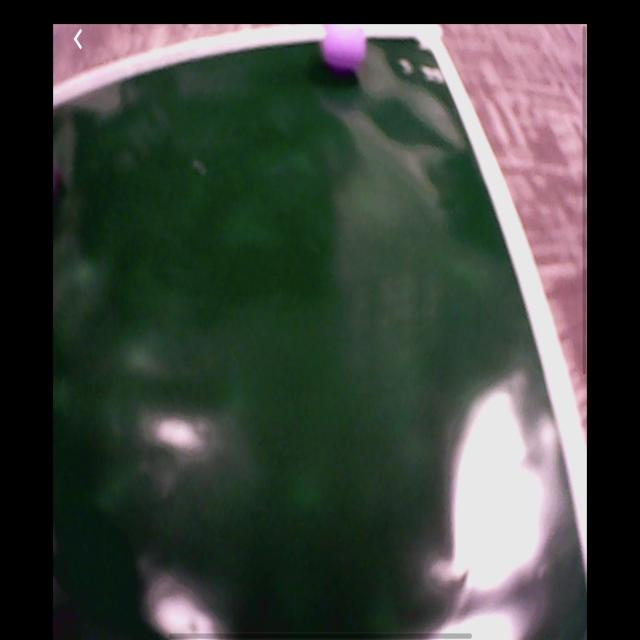ball: (320, 24, 369, 75)
